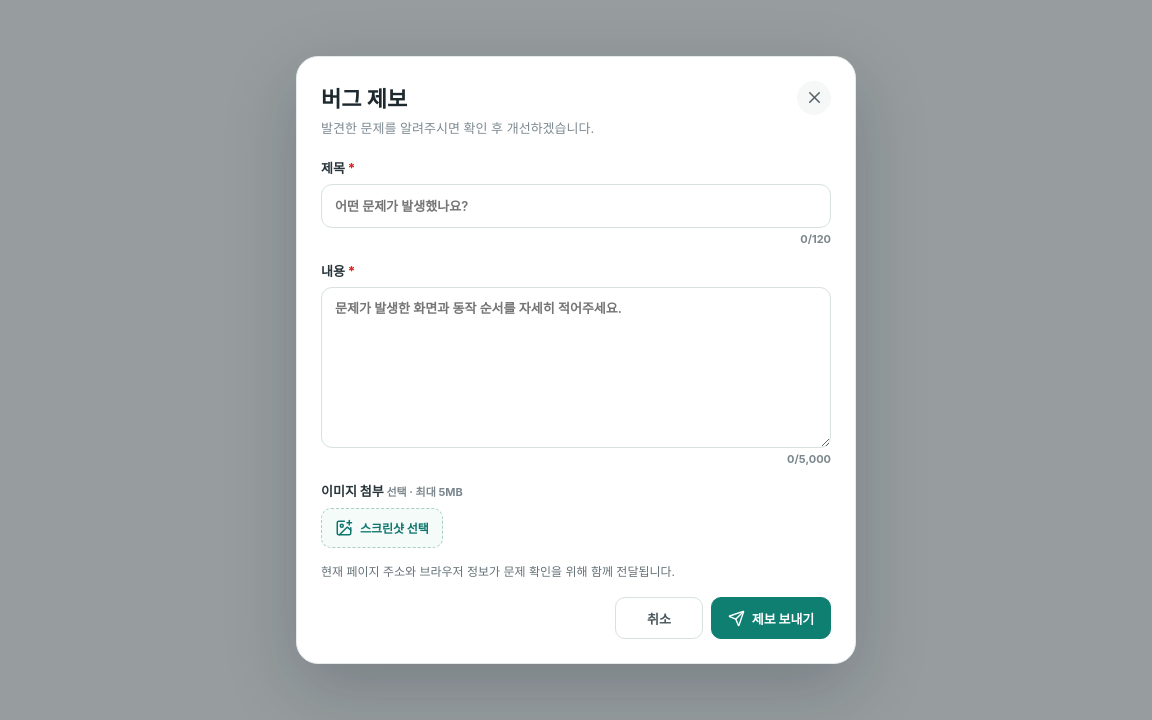
it: BugReportModal › validates trimmed title and content lengths before submitting
This screenshot has width=1152, height=720.
Type "한" into the field labelled "제목 * 0/120" at {"x": 576, "y": 206}, box [321,184,831,228]
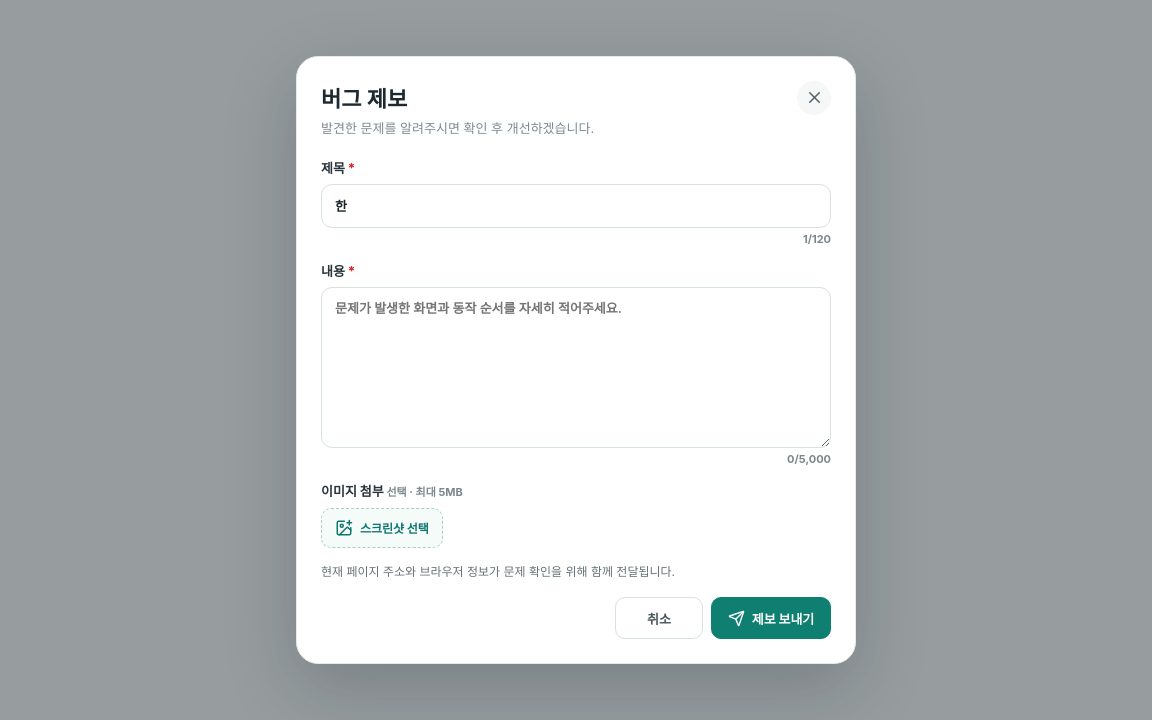
Type "짧은 내용" into the text box labelled "내용 * 0/5,000" at {"x": 576, "y": 368}, box [321,287,831,448]
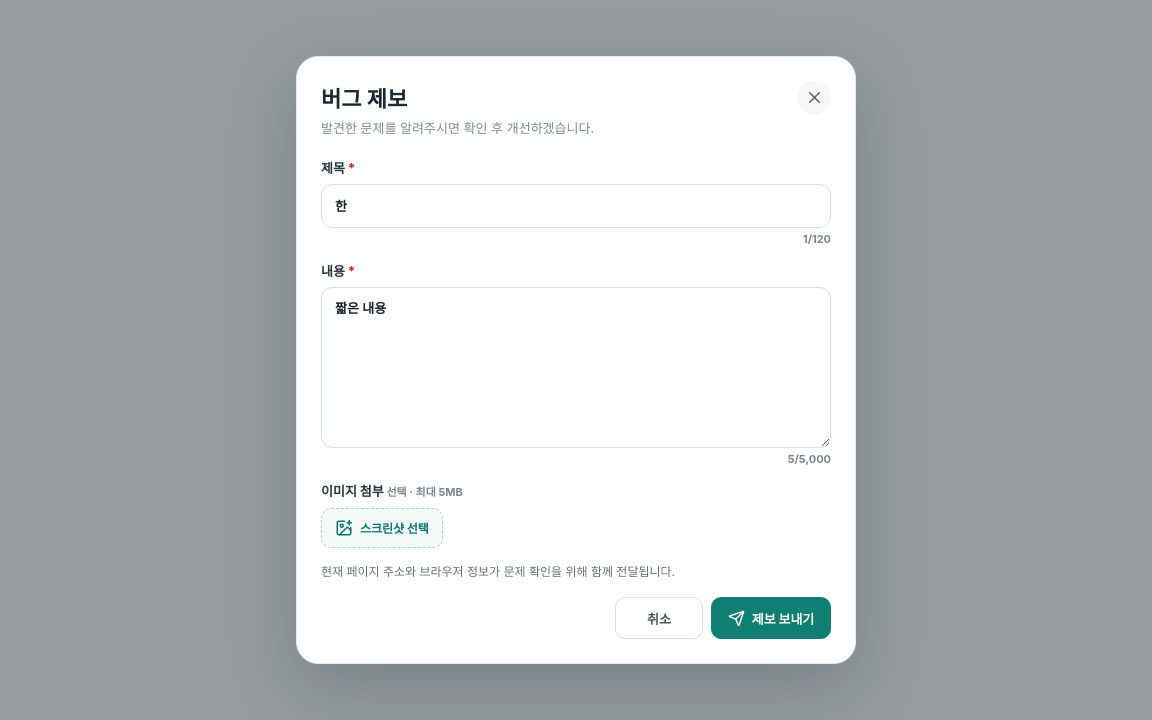
Submit the form named "버그 제보 양식", box [321,158,831,639]
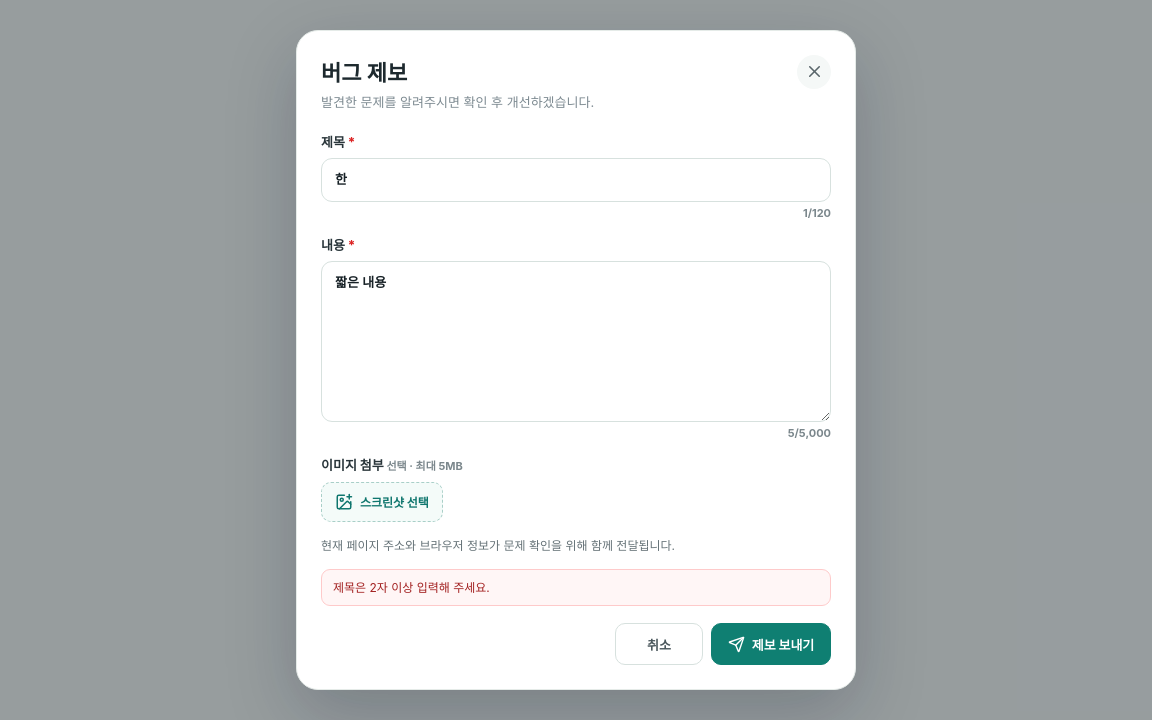
expect the message shows "제목은 2자 이상": met, box [333,580,490,595]
Replace the text in the field labelled "제목 * 1/120" with "정상 제목" at {"x": 576, "y": 180}, box [321,158,831,202]
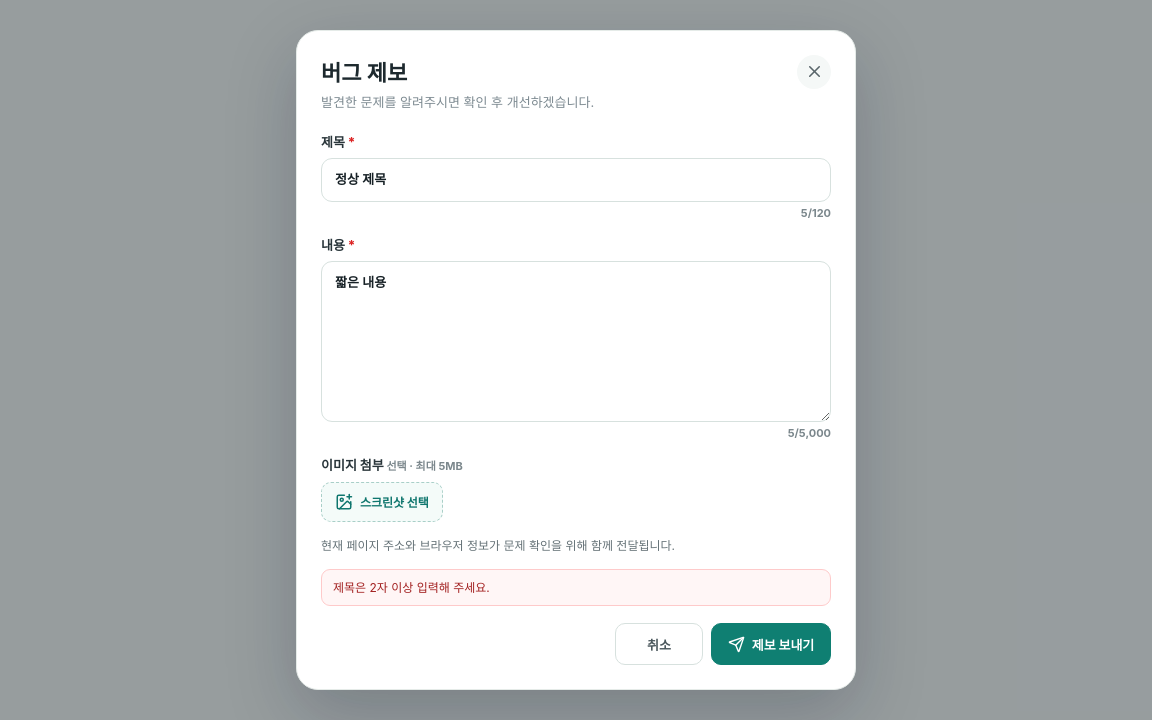
Submit the form named "버그 제보 양식", box [321,132,831,665]
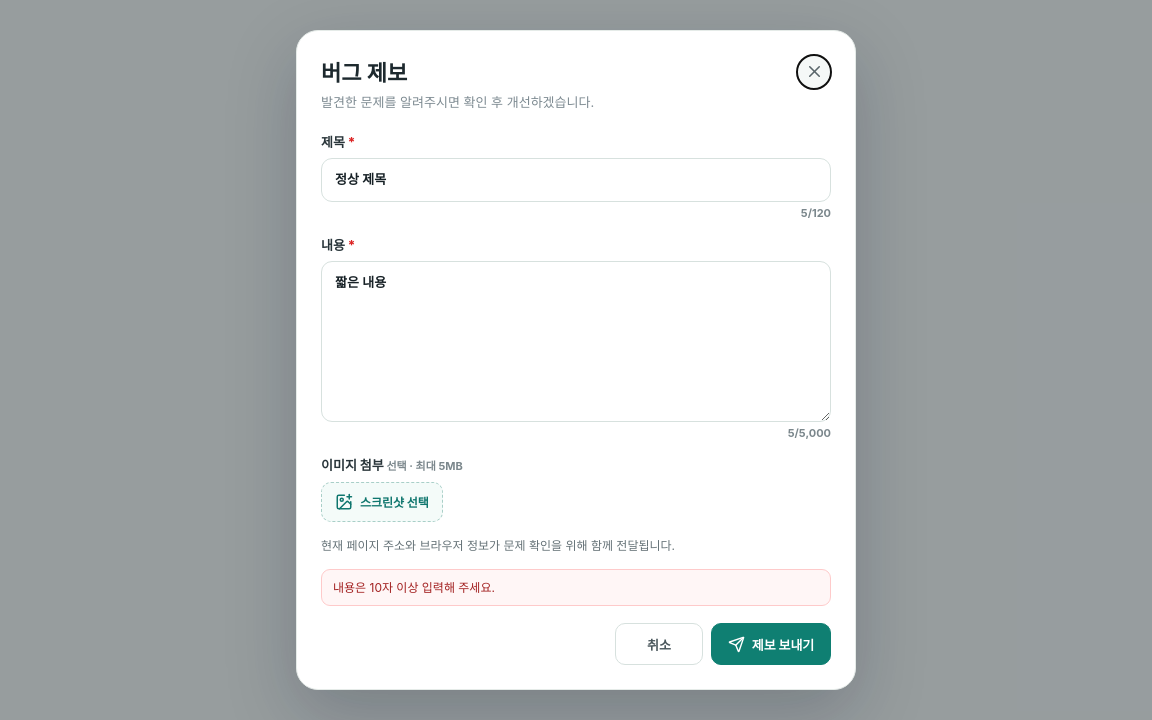
expect the message shows "내용은 10자 이상": met, box [333,580,495,595]
